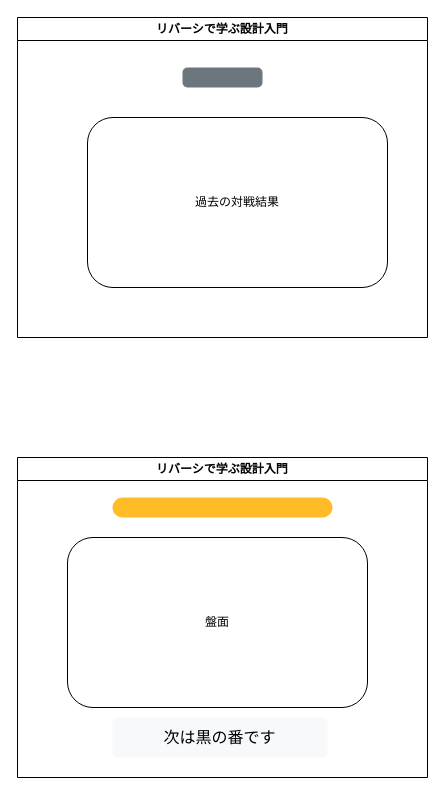
Image size: 445x795. Some labels were removed from this diagram. The shapes that lost their labels are listed below. From the top down, each one's centre as x and y in pixels, then its label:
At [222,77]: "対戦する".
At [222,507]: "白の番はスキップです".
